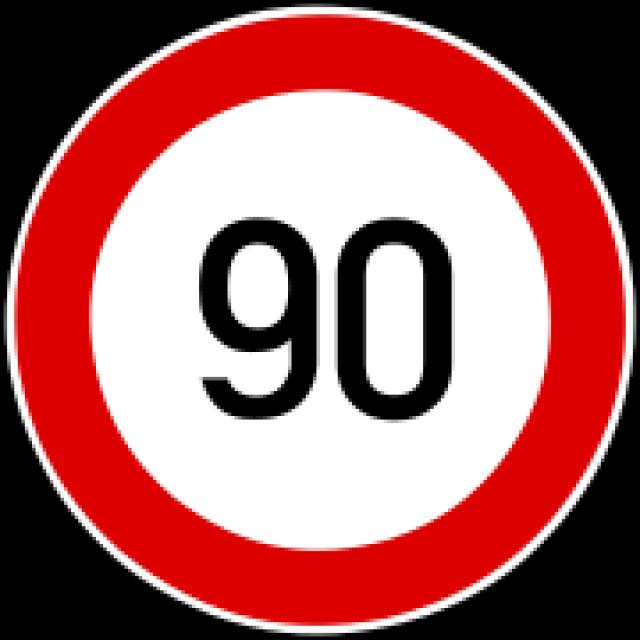Speed Limit -90-: (179, 195, 472, 430)
